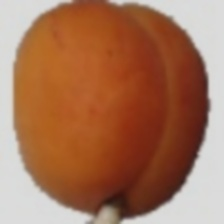apricot: (45, 16, 188, 198)
